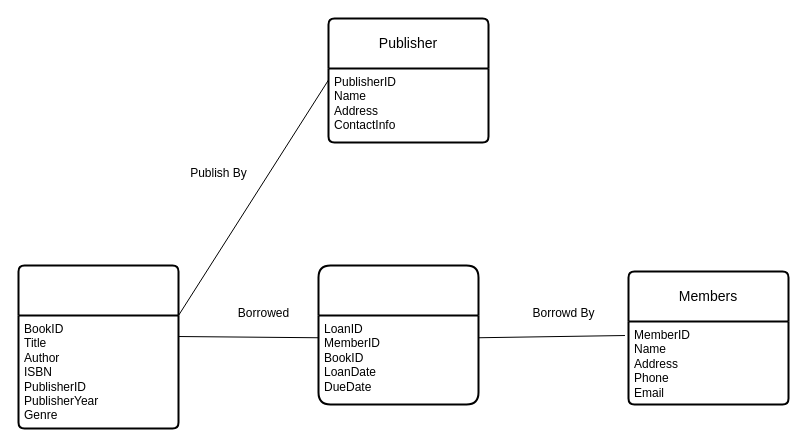
The diagram is 806 pixels wide and 446 high, and some of its shapes have lost their labels. The box of each missing label's shape, as (x1, y1, x2, y2) in pixels:
Books: (17, 264, 179, 429)
Loans: (317, 264, 479, 405)
